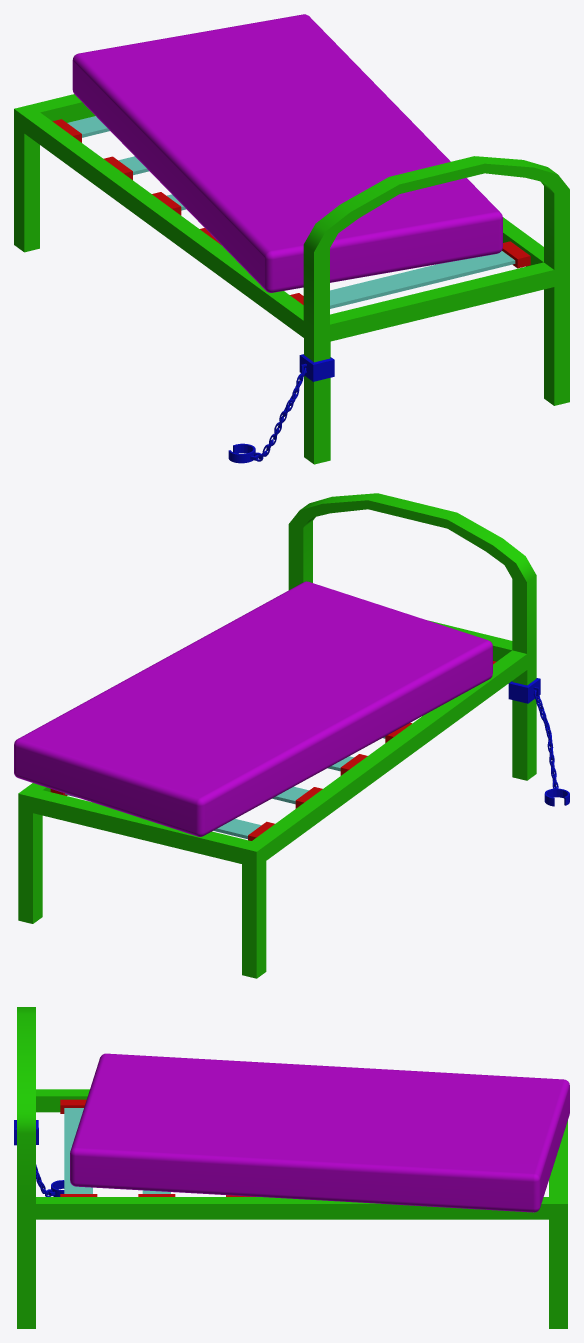
The model's file is SM_LitEnfant.fbx.
3 renders of one model, top to bottom at view 1: azimuth 30°, elevation 25°; view 2: azimuth 150°, elevation 25°; view 3: azimuth 270°, elevation 25°, orthographic. The views are drawn at different scales.
Parts seen in each view (by area): view 1: pCube30; view 2: pCube30; view 3: pCube30.
Part boxes in pixels (x1,y1,x2,y2): pCube30: (14, 14, 569, 464); pCube30: (14, 493, 569, 978); pCube30: (14, 1007, 569, 1328).
Bounding box in the file's own units: 118 × 86.57 × 183.
